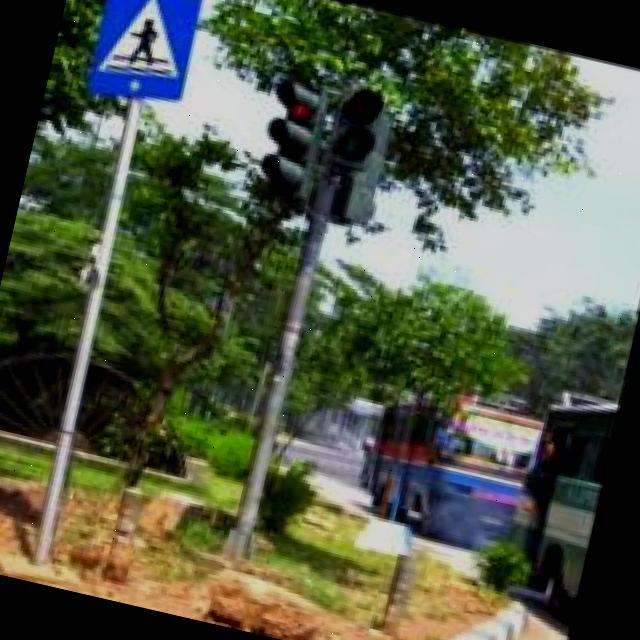red_light: (218, 56, 346, 225), (308, 74, 400, 250)
